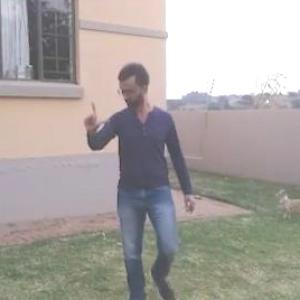land_hand: (78, 96, 112, 134)
